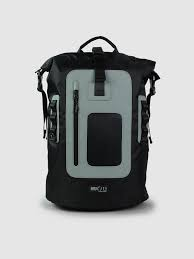backpack: (34, 35, 160, 211)
